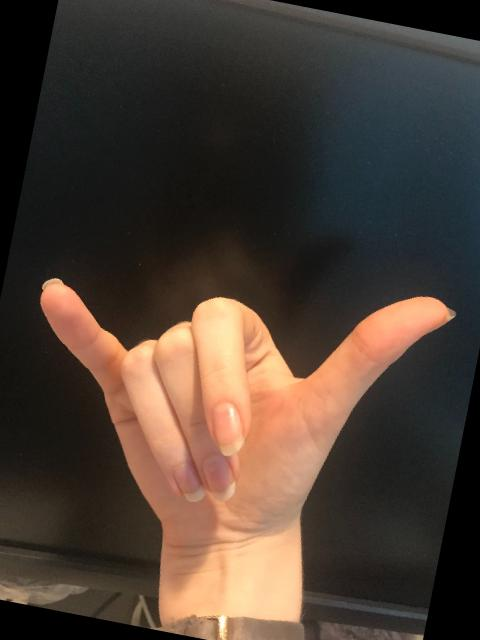Y: (0, 219, 461, 572)
